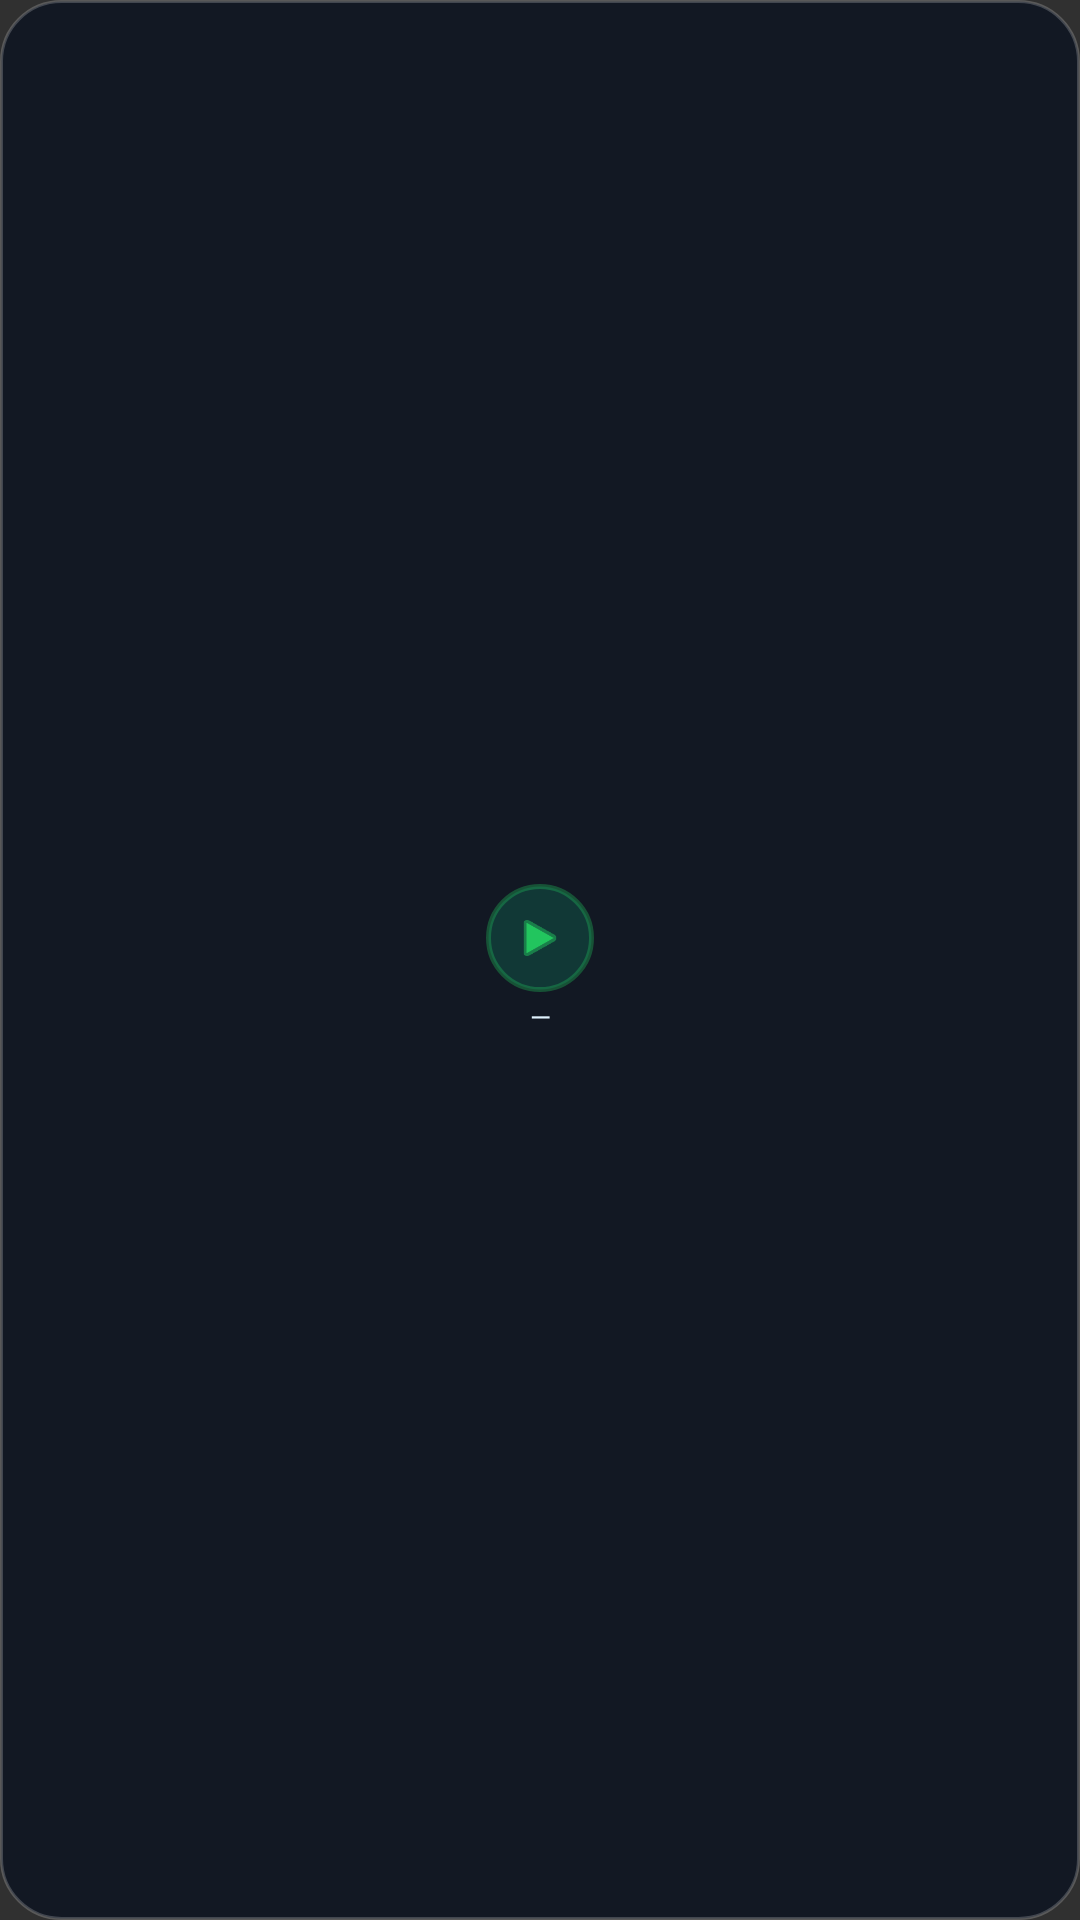

Icons on this 1080w x 1920h Android screen, each with its box as (x1, y1, x2, y2):
play: (524, 920, 556, 956)
